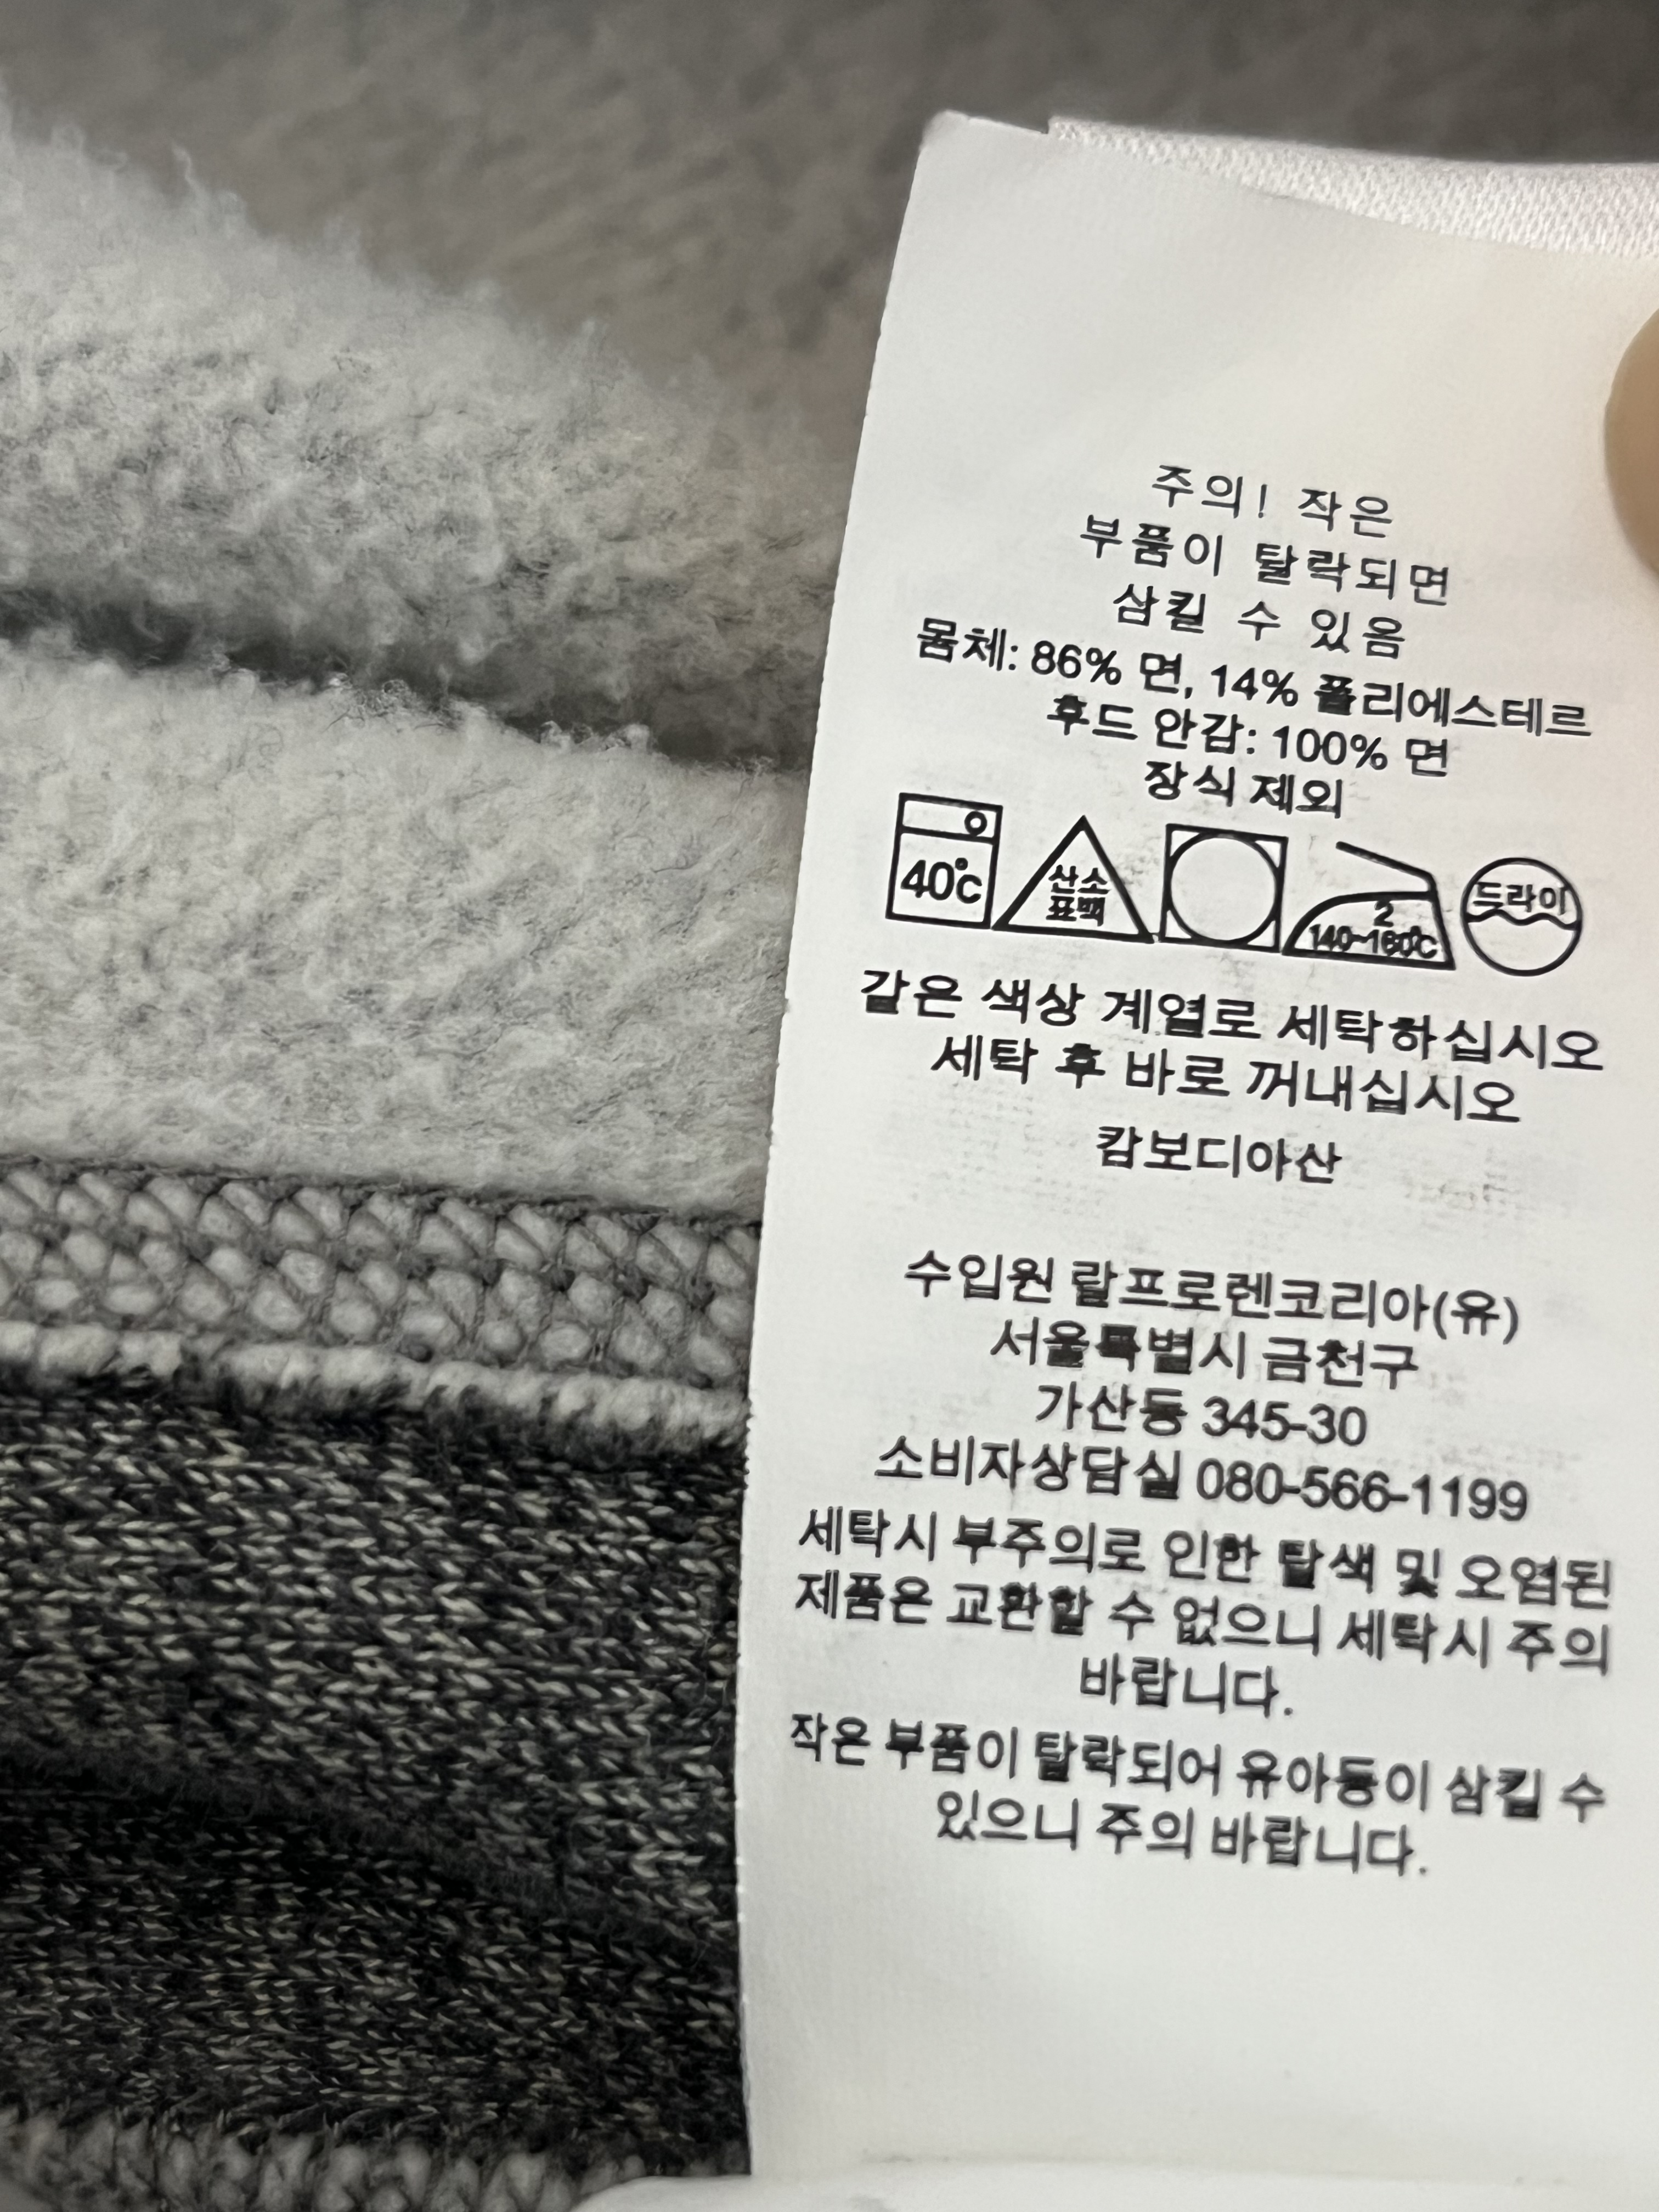dry_clean: (1455, 846, 1601, 984)
iron_low: (1290, 831, 1453, 975)
non_chlorine_bleach: (1006, 803, 1145, 949)
tumble_dry_normal: (1157, 812, 1297, 956)
